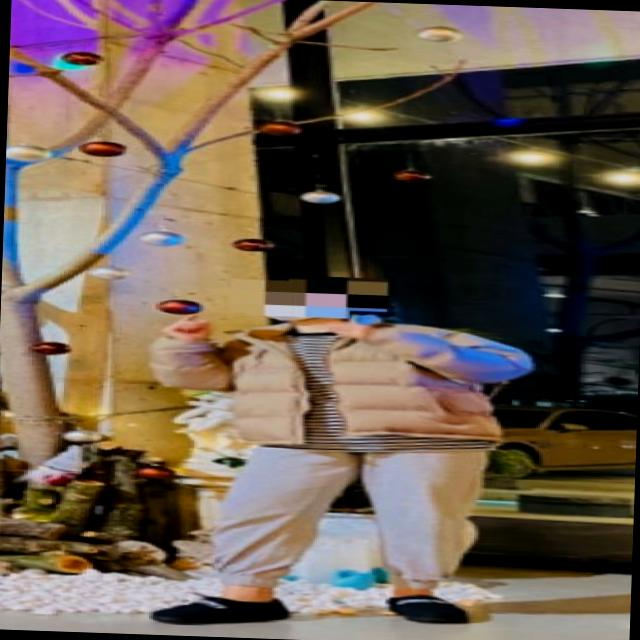padding: (146, 310, 544, 454)
trainingpants: (207, 441, 490, 591)
